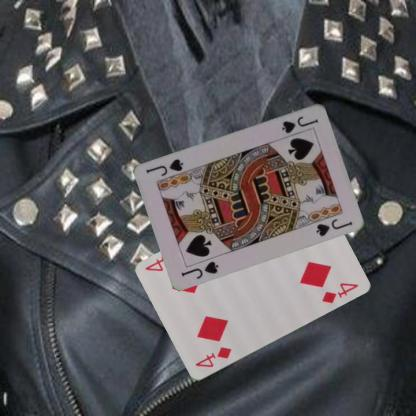4d: (192, 344, 233, 369)
Js: (279, 113, 320, 135), (179, 258, 220, 280)
